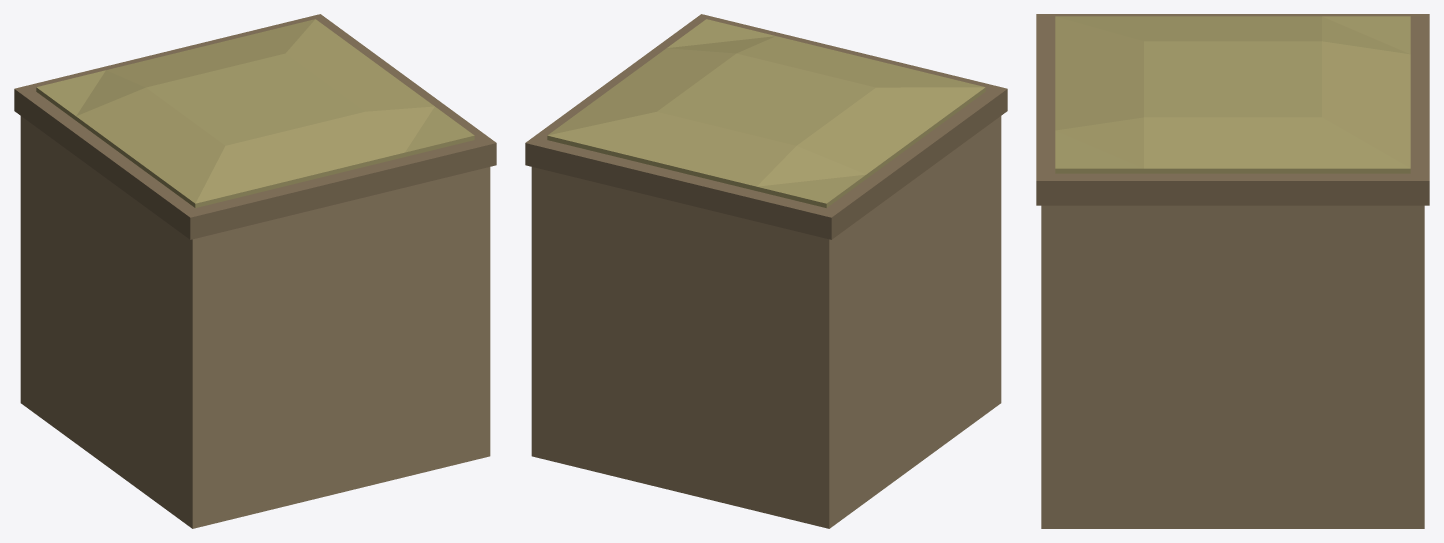
Rendered from wall.fbx.
3 renders of one model, left to right at view 1: azimuth 30°, elevation 25°; view 2: azimuth 150°, elevation 25°; view 3: azimuth 270°, elevation 25°, orthographic. The views are drawn at different scales.
Visible parts, largest first — view 1: Cube_3; view 2: Cube_3; view 3: Cube_3.
Boxes of the visible parts, x1,y1,x2,y2 form: Cube_3: [14, 14, 496, 528]; Cube_3: [525, 14, 1007, 528]; Cube_3: [1036, 14, 1429, 528].
Bounding box in the file's own units: 206 × 212 × 205.
